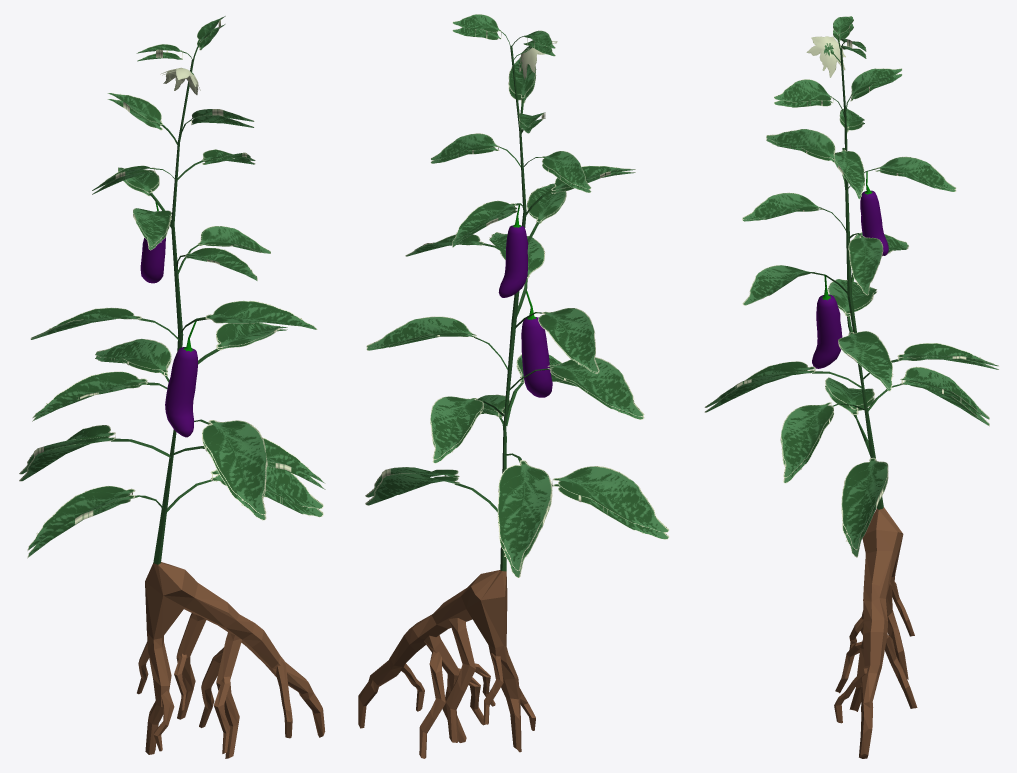
Rendered from egg_plant_1.fbx.
3 views of the same model, side by side, from view 1: azimuth 30°, elevation 25°; view 2: azimuth 150°, elevation 25°; view 3: azimuth 270°, elevation 25° (orthographic). The views are drawn at different scales.
Parts seen in each view (by area): view 1: egg_plant:jalapeno_plant:LOD0LOD_0polySurface52, roots1, egg_plant:polySurface2; view 2: egg_plant:jalapeno_plant:LOD0LOD_0polySurface52, roots1, egg_plant:polySurface2; view 3: egg_plant:jalapeno_plant:LOD0LOD_0polySurface52, roots1, egg_plant:polySurface2, egg_plant:jalapeno_plant:polySurface1LOD0LOD_0.
Boxes of the visible parts, left/top/right/bottom form: egg_plant:jalapeno_plant:LOD0LOD_0polySurface52: left=19, top=16, right=325, bottom=558; roots1: left=110, top=41, right=325, bottom=758; egg_plant:polySurface2: left=140, top=201, right=197, bottom=437; egg_plant:jalapeno_plant:LOD0LOD_0polySurface52: left=365, top=14, right=669, bottom=577; roots1: left=358, top=30, right=557, bottom=758; egg_plant:polySurface2: left=498, top=205, right=552, bottom=397; egg_plant:jalapeno_plant:LOD0LOD_0polySurface52: left=704, top=16, right=998, bottom=557; roots1: left=811, top=34, right=917, bottom=758; egg_plant:polySurface2: left=812, top=171, right=888, bottom=368; egg_plant:jalapeno_plant:polySurface1LOD0LOD_0: left=806, top=36, right=845, bottom=77.
Bounding box in the file's own units: 35.27 × 81.27 × 33.05.
